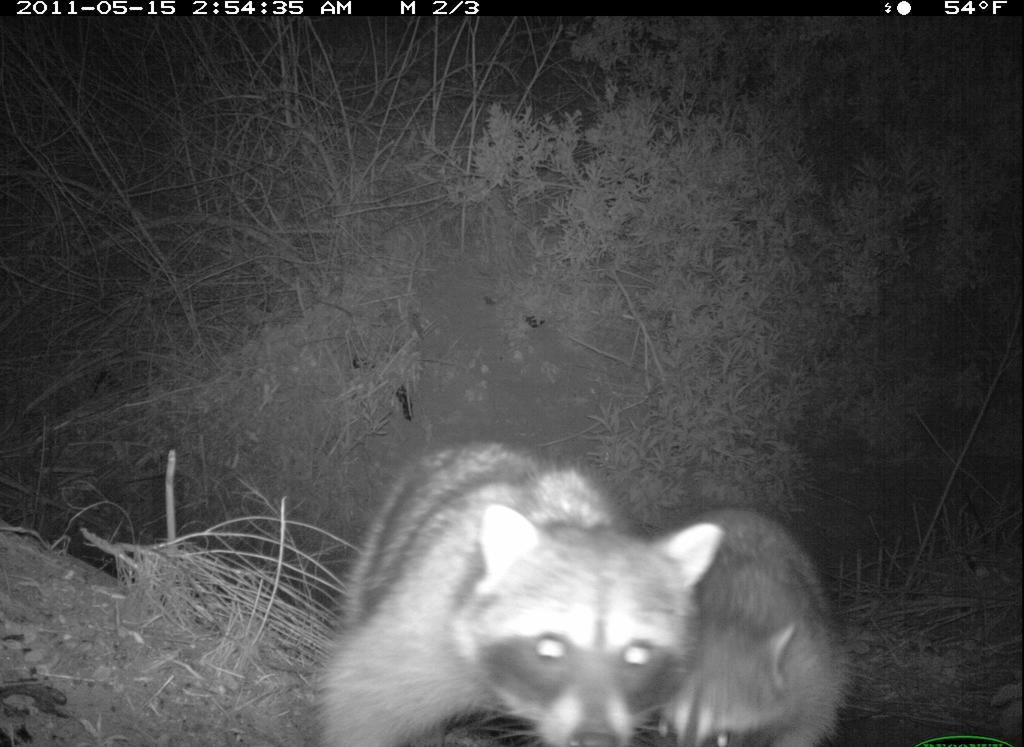raccoon: (283, 401, 729, 745), (655, 481, 867, 747)
